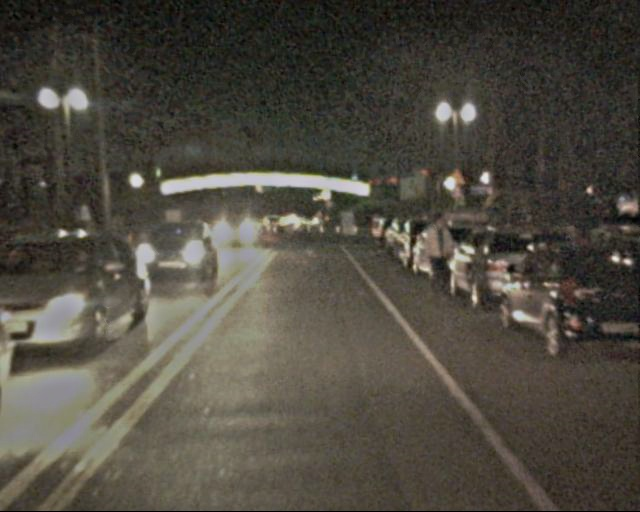person: (417, 216, 453, 305)
